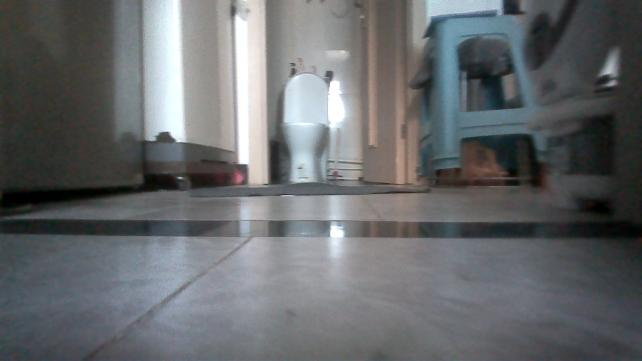toilet: (270, 73, 345, 193)
